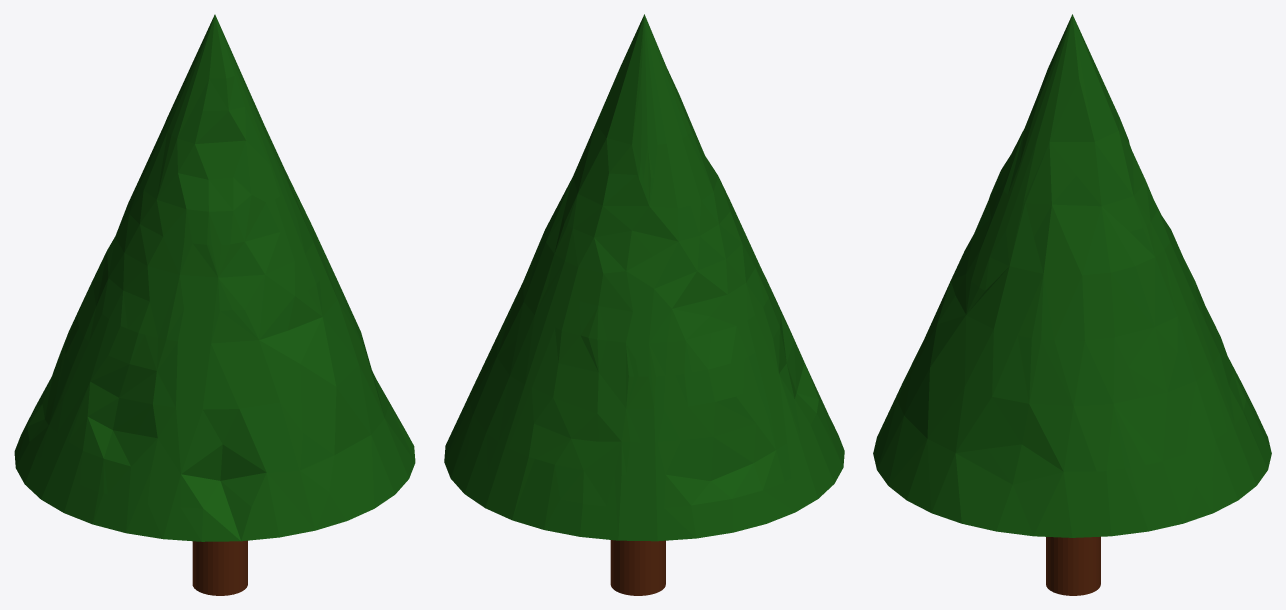
File: Tree Large.fbx
3 renders of one model, left to right at view 1: azimuth 30°, elevation 25°; view 2: azimuth 150°, elevation 25°; view 3: azimuth 270°, elevation 25°, orthographic.
Visible parts, largest first — view 1: Cone.003; view 2: Cone.003; view 3: Cone.003.
Part boxes in pixels (x1,y1,x2,y2): Cone.003: [14, 14, 415, 595]; Cone.003: [444, 14, 844, 595]; Cone.003: [873, 14, 1271, 595].
Size of the model in its own units: 744 by 1169 by 744.
